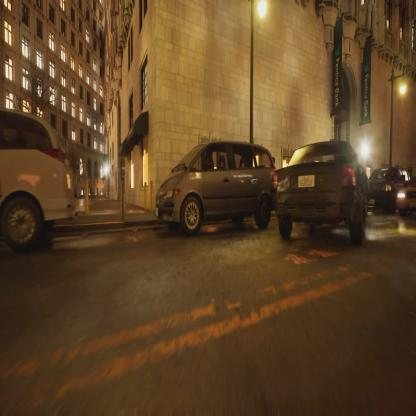License-Plate: (296, 169, 318, 193)
